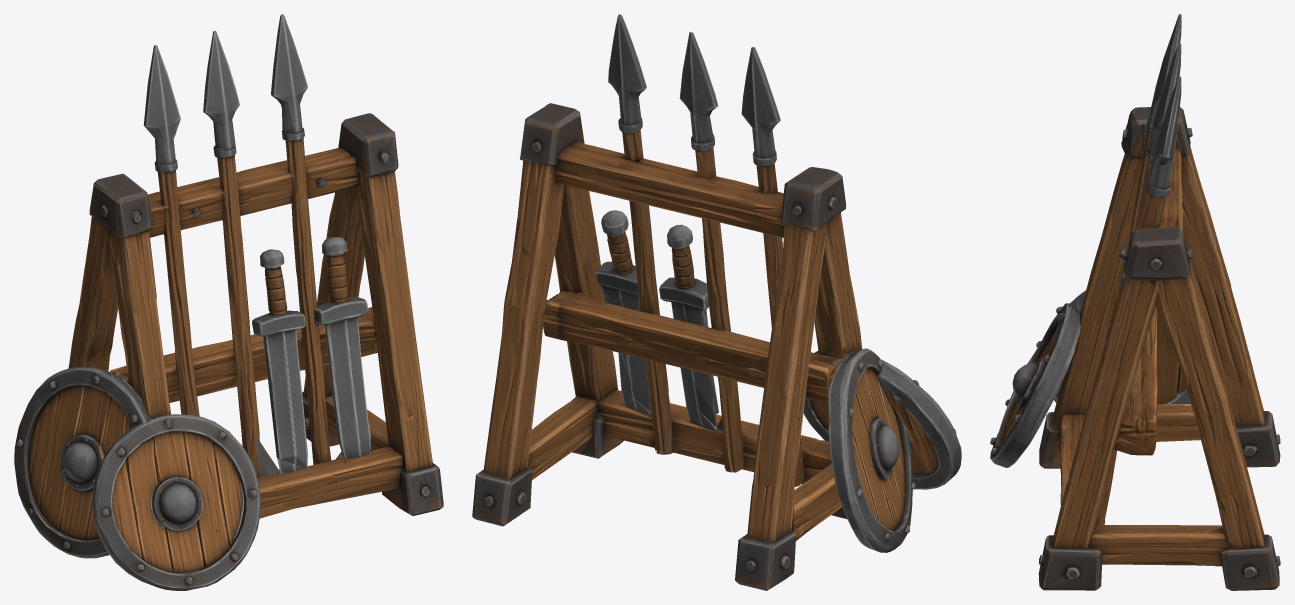
The model's file is weapon_rack.glb.
3 renders of one model, left to right at view 1: azimuth 30°, elevation 25°; view 2: azimuth 150°, elevation 25°; view 3: azimuth 270°, elevation 25°, orthographic. The views are drawn at different scales.
Bounding box in the file's own units: 1.49 × 1.9 × 1.06.
Materials: 1 (1 with a texture image).
